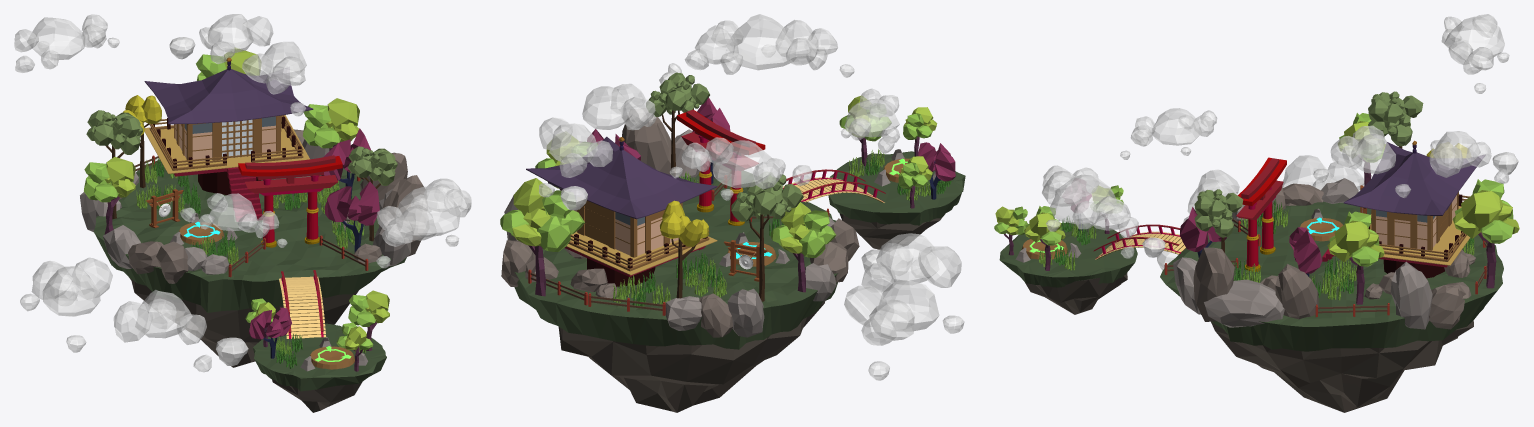
The model's file is envi_kobu.glb.
The picture shows the model from 3 angles, left to right: view 1: azimuth 30°, elevation 25°; view 2: azimuth 150°, elevation 25°; view 3: azimuth 270°, elevation 25°; orthographic projection. The views are drawn at different scales.
Parts seen in each view (by area): view 1: pCube1, pasted__pCube87, pasted__polySurface141, pasted__polySurface49, pasted__polySurface136, pasted__pCylinder9, pCube13, pCone1, pasted__polySurface135, pasted__polySurface142, pasted__pCube55, pasted__polySurface74 (+23 smaller); view 2: pCube1, pasted__pCube87, pCone1, pasted__polySurface141, pasted__polySurface136, pasted__polySurface49, pCube13, pasted__polySurface143, pasted__polySurface135, pasted__pCylinder9, pasted__polySurface134, pasted__polySurface145 (+25 smaller); view 3: pCube1, pasted__pCube87, pCone1, pasted__polySurface49, pasted__polySurface136, pCube13, pasted__polySurface143, pasted__polySurface135, pasted__polySurface141, pasted__pCylinder9, pSphere4, pasted__polySurface142 (+19 smaller).
Part boxes in pixels (box(x1,y1,x2,y2)): pCube1: box(93, 162, 406, 312); pasted__pCube87: box(144, 57, 313, 221); pasted__polySurface141: box(20, 257, 248, 372); pasted__polySurface49: box(169, 14, 306, 116); pasted__polySurface136: box(376, 178, 471, 268); pasted__pCylinder9: box(238, 155, 342, 247); pCube13: box(253, 323, 386, 391); pCone1: box(129, 277, 358, 367); pasted__polySurface135: box(14, 14, 119, 72); pasted__polySurface142: box(180, 193, 287, 247); pasted__pCube55: box(279, 270, 325, 338); pasted__polySurface74: box(302, 98, 359, 150); pCube1: box(514, 170, 837, 349); pasted__pCube87: box(526, 136, 717, 286); pCone1: box(558, 301, 825, 412); pasted__polySurface141: box(844, 233, 964, 380); pasted__polySurface136: box(659, 14, 854, 84); pasted__polySurface49: box(539, 83, 656, 210); pCube13: box(828, 151, 965, 225); pasted__polySurface143: box(500, 178, 584, 296); pasted__polySurface135: box(669, 137, 812, 200); pasted__pCylinder9: box(677, 109, 765, 225); pasted__polySurface134: box(731, 174, 803, 301); pasted__polySurface145: box(770, 202, 836, 292); pCube1: box(1160, 201, 1503, 351); pasted__pCube87: box(1322, 140, 1485, 278); pCone1: box(1211, 320, 1473, 412); pasted__polySurface49: box(1313, 125, 1518, 197); pasted__polySurface136: box(1042, 165, 1165, 258); pCube13: box(999, 222, 1137, 287); pasted__polySurface143: box(1452, 179, 1519, 288); pasted__polySurface135: box(1441, 14, 1509, 93); pasted__polySurface141: box(1157, 155, 1364, 270); pasted__pCylinder9: box(1236, 157, 1286, 271); pSphere4: box(1204, 279, 1284, 327); pasted__polySurface142: box(1120, 108, 1217, 159).
Bounding box in the file's own units: 308 × 270 × 390.
